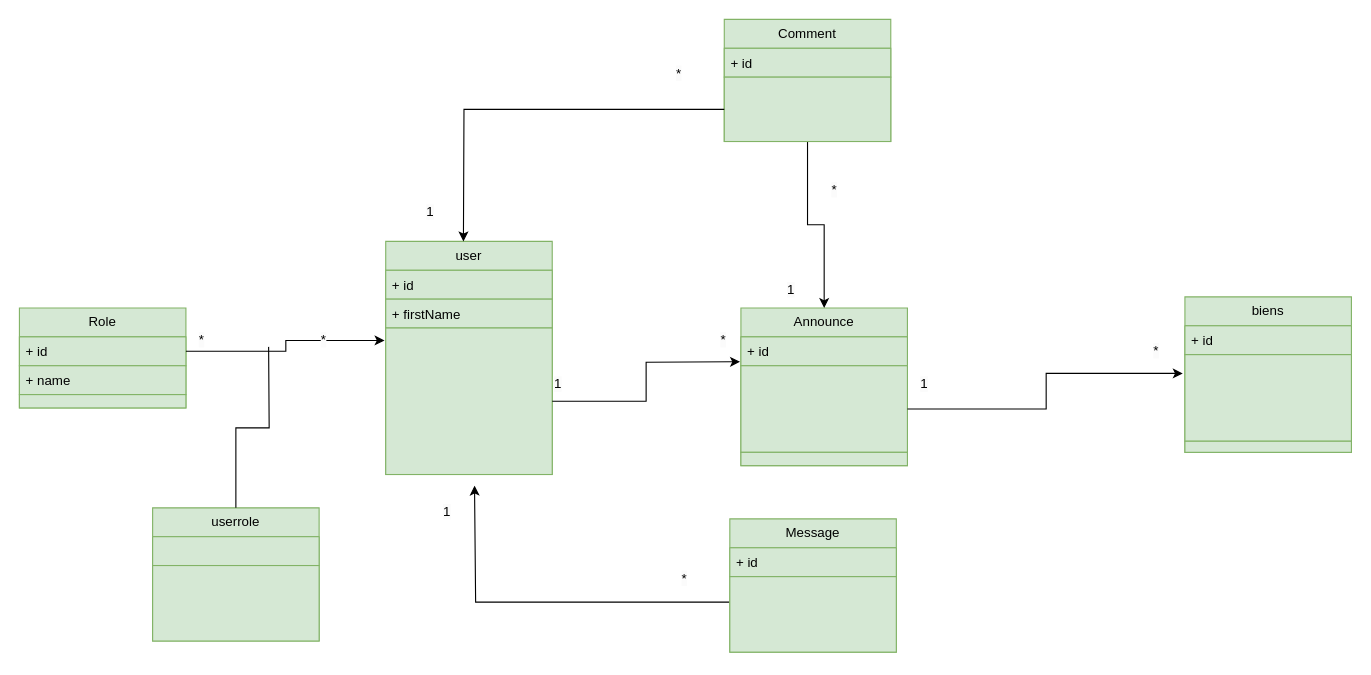
This 1371x675 diagram has some shape labels left out. Each missing label, with the centre of its shape:
"+ content" belongs at point 807,109.
"+ lastName + email + password + phone" belongs at point 468,401.
"+ name + description" belongs at point 1267,397.
"+ price + description + location" belongs at point 823,408.
"+ recieverId + senderId" belongs at point 812,614.
"+ roleId" belongs at point 235,602.
"+ userId" belongs at point 235,551.
